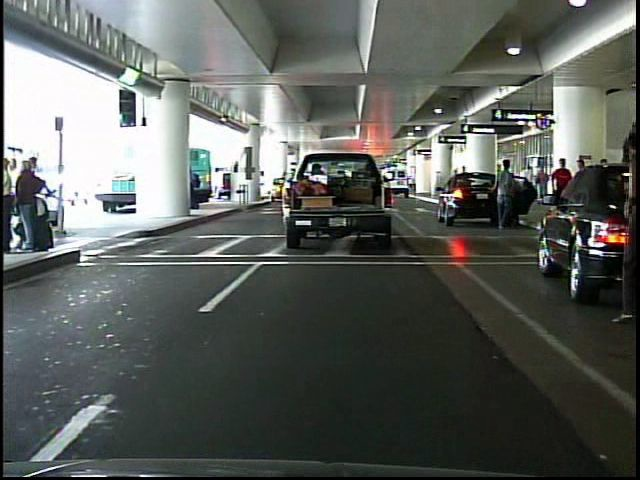person: (487, 155, 523, 236), (551, 155, 571, 183)
